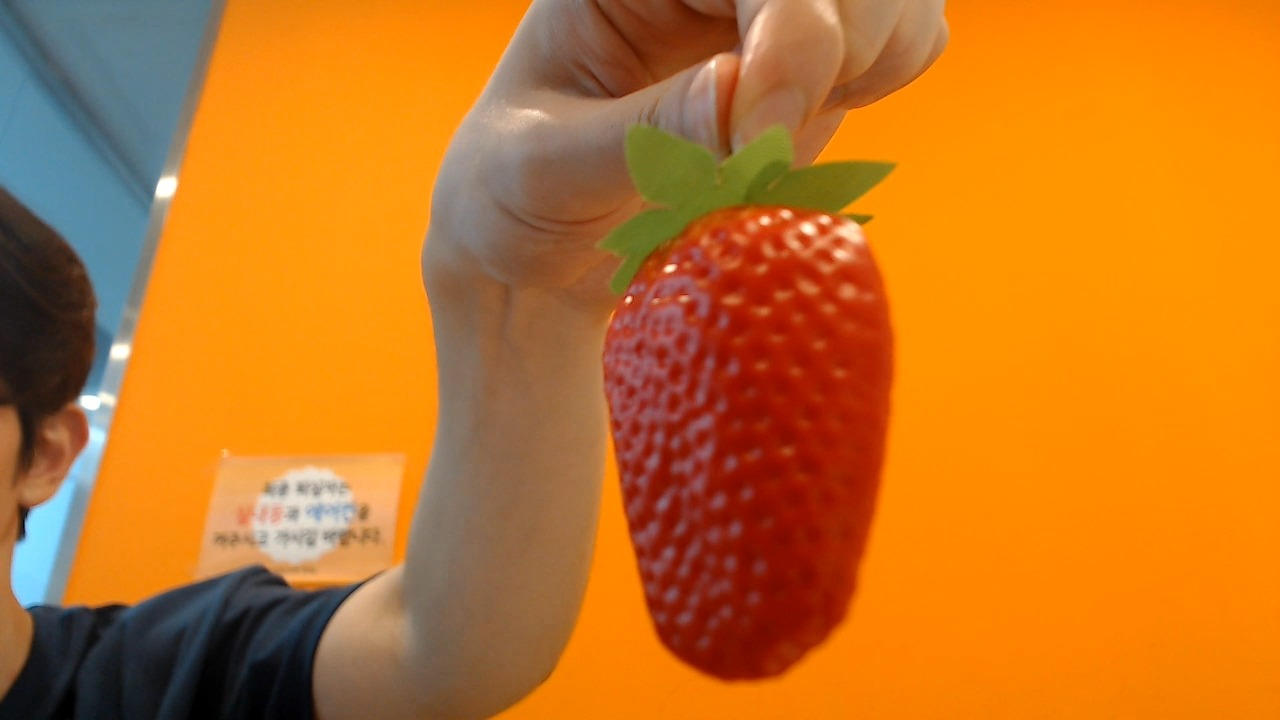strawberry: (601, 154, 894, 679)
